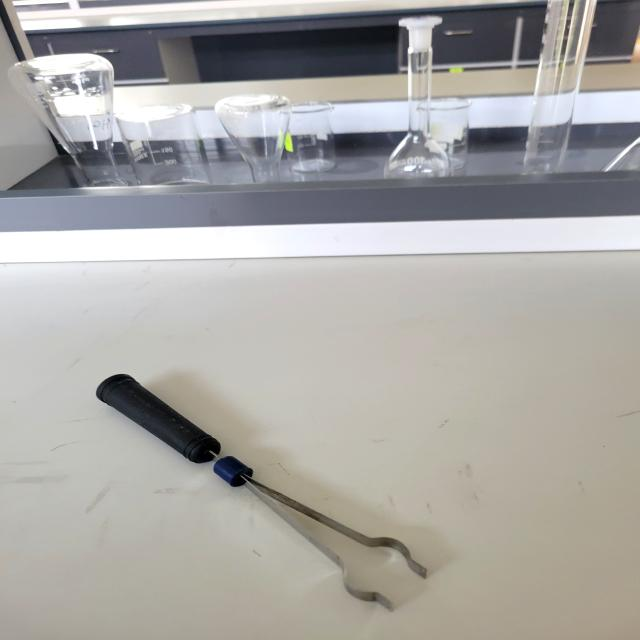TestTube_Holder: (77, 353, 443, 617)
